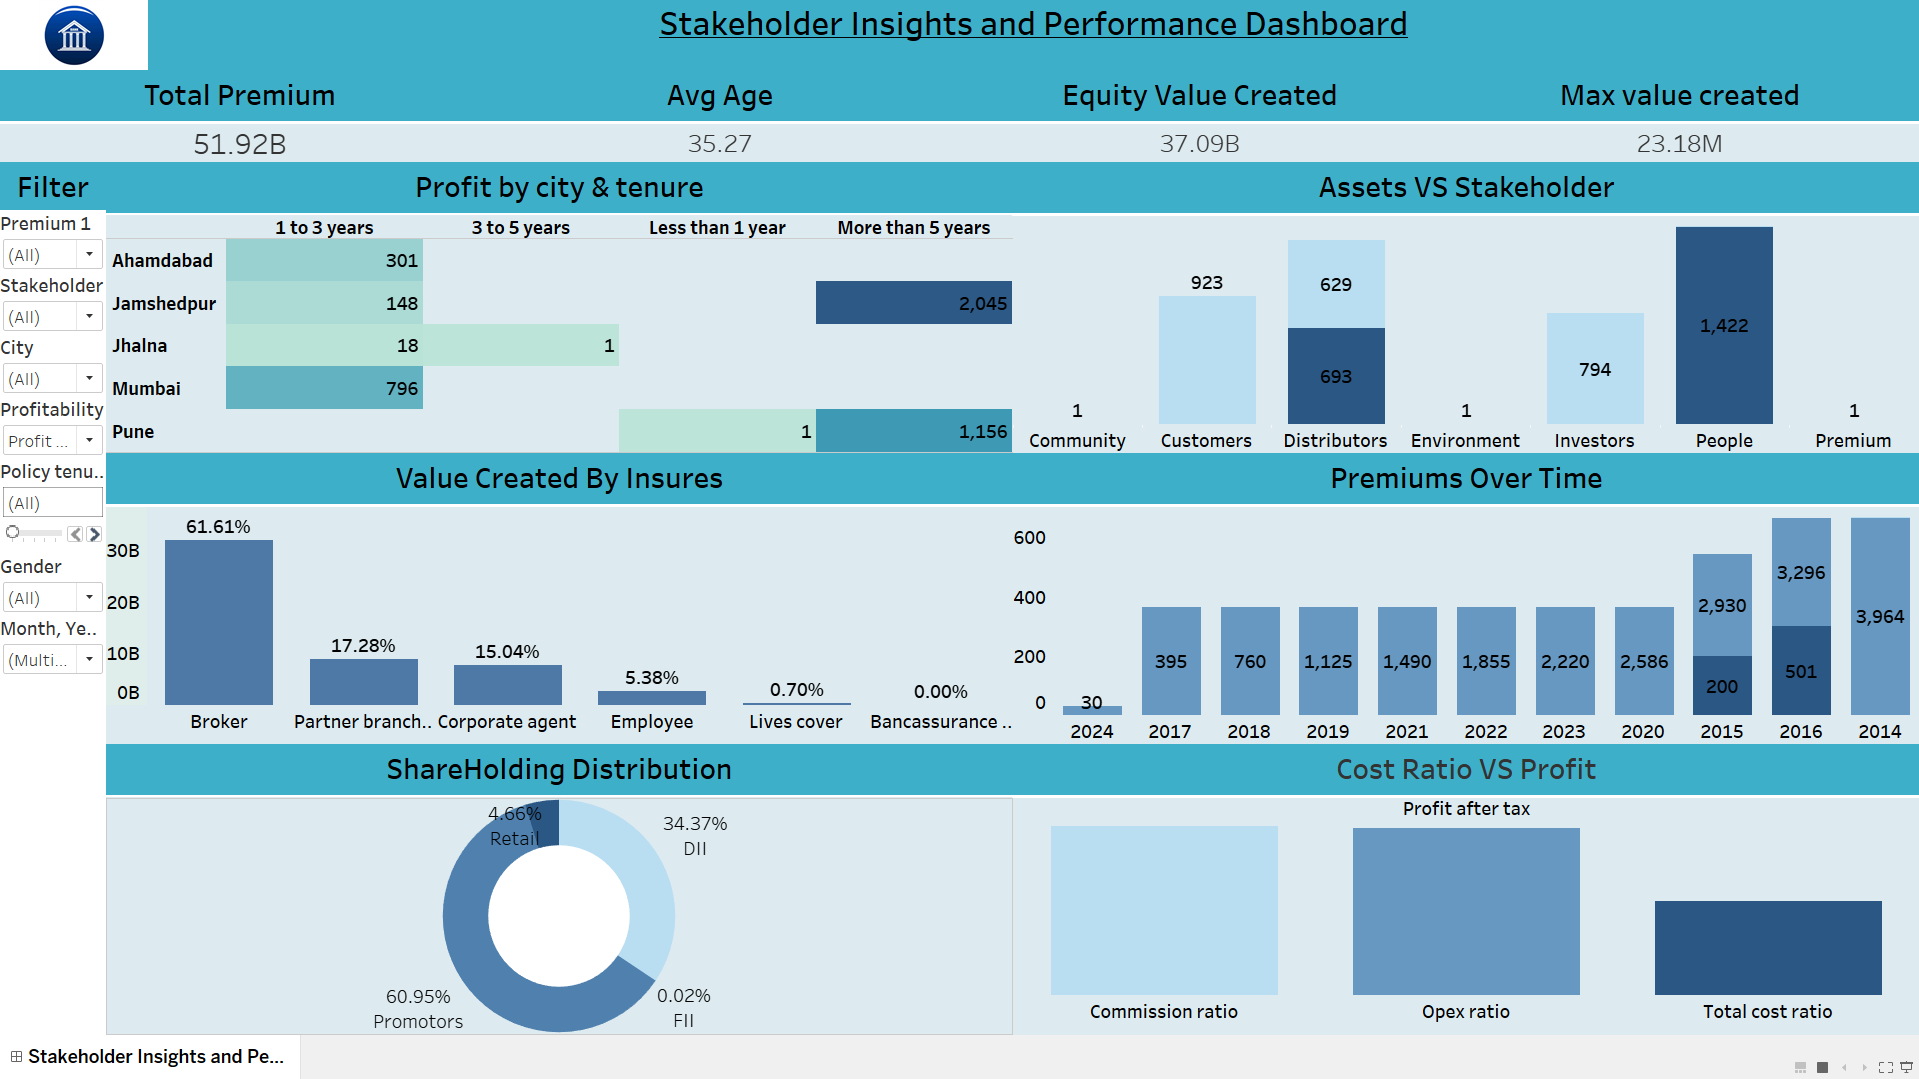

Layout of this report page (visuals, bound fields, positions):
{"tool":"tableau","page":{"name":"Stakeholder Insights and Performance Dashboard","canvas":[1000,1000],"units":"permille","ordinal":0},"visuals":[{"type":"image","param":"C:/Users/KIIT/Desktop/nk.jpeg","box":[0,0,94,93.1]},{"type":"text","box":[94,0,906,93.1]},{"type":"worksheet","title":"Total Premium","mark":"Automatic","box":[0,93.1,250,122.3]},{"type":"worksheet","title":"Avg Age","mark":"Automatic","box":[250,93.1,250,122.3]},{"type":"worksheet","title":"Total value created by equity","mark":"Automatic","box":[500,93.1,250,122.3]},{"type":"worksheet","title":"Max value created","mark":"Automatic","box":[750,93.1,250,122.3]},{"type":"worksheet","title":"Filter","mark":"Automatic","box":[0,215.4,67.3,63.8]},{"type":"worksheet","title":"Profit by city and tenure","mark":"Square","rows":["City"],"cols":["Policy tenuer"],"box":[67.3,215.4,466.7,262]},{"type":"worksheet","title":"Asset Vs Stakeholder","mark":"Automatic","cols":["Stakeholder"],"box":[534,215.4,466,262]},{"type":"filter","title":"Filter","param":"[federated.0vr036v17m6u7819pgyjn1tec6cb].[none:Premium 1:nk]","box":[0,279.3,67.3,82.5]},{"type":"filter","title":"Filter","param":"[federated.0vr036v17m6u7819pgyjn1tec6cb].[none:Stakeholder:nk]","box":[0,361.7,67.3,82.5]},{"type":"filter","title":"Filter","param":"[federated.0vr036v17m6u7819pgyjn1tec6cb].[none:City:nk]","box":[0,444.2,67.3,82.5]},{"type":"worksheet","title":"Value by insures","mark":"Automatic","rows":["Value Created"],"cols":["Insurer"],"box":[67.3,477.4,466.7,262]},{"type":"worksheet","title":"Premium Over Time","mark":"Bar","rows":["Premium 1"],"cols":["Date"],"box":[534,477.4,466,262]},{"type":"filter","title":"Filter","param":"[federated.0vr036v17m6u7819pgyjn1tec6cb].[none:Profitability:nk]","box":[0,526.6,67.3,82.5]},{"type":"filter","title":"Filter","param":"[federated.0vr036v17m6u7819pgyjn1tec6cb].[none:Policy tenuer:nk]","box":[0,609.1,67.3,126.3]},{"type":"filter","title":"Filter","param":"[federated.0vr036v17m6u7819pgyjn1tec6cb].[none:Gender:nk]","box":[0,735.4,67.3,82.5]},{"type":"worksheet","title":"Shareholding Distribution","mark":"Pie","rows":["Calculation_1393864100864684042","Calculation_1393864100864712716"],"box":[67.3,739.4,466.7,260.6]},{"type":"worksheet","title":"CostRatio vs Profit","mark":"Automatic","rows":["Value Created"],"cols":["Profitability","Cost ratio"],"box":[534,739.4,466,260.6]},{"type":"filter","title":"Filter","param":"[federated.0vr036v17m6u7819pgyjn1tec6cb].[my:Date:ok]","box":[0,817.8,67.3,82.5]}]}

Visuals, with their boxes on the dashboard's canvas, which has no fixed pixel size, in thousandths of its width and height (x1, y1, x2, y2). These are canvas units, not pixel positions in the 1919x1079 screenshot, which may show the page scaled, cropped or inside an application window:
image: l=0, t=0, r=94, b=93
text: l=94, t=0, r=1000, b=93
"Total Premium" worksheet: l=0, t=93, r=250, b=215
"Avg Age" worksheet: l=250, t=93, r=500, b=215
"Total value created by equity" worksheet: l=500, t=93, r=750, b=215
"Max value created" worksheet: l=750, t=93, r=1000, b=215
"Filter" worksheet: l=0, t=215, r=67, b=279
"Profit by city and tenure" worksheet (Square marks): l=67, t=215, r=534, b=477
"Asset Vs Stakeholder" worksheet: l=534, t=215, r=1000, b=477
"Filter" filter: l=0, t=279, r=67, b=362
"Filter" filter: l=0, t=362, r=67, b=444
"Filter" filter: l=0, t=444, r=67, b=527
"Value by insures" worksheet: l=67, t=477, r=534, b=739
"Premium Over Time" worksheet (Bar marks): l=534, t=477, r=1000, b=739
"Filter" filter: l=0, t=527, r=67, b=609
"Filter" filter: l=0, t=609, r=67, b=735
"Filter" filter: l=0, t=735, r=67, b=818
"Shareholding Distribution" worksheet (Pie marks): l=67, t=739, r=534, b=1000
"CostRatio vs Profit" worksheet: l=534, t=739, r=1000, b=1000
"Filter" filter: l=0, t=818, r=67, b=900
